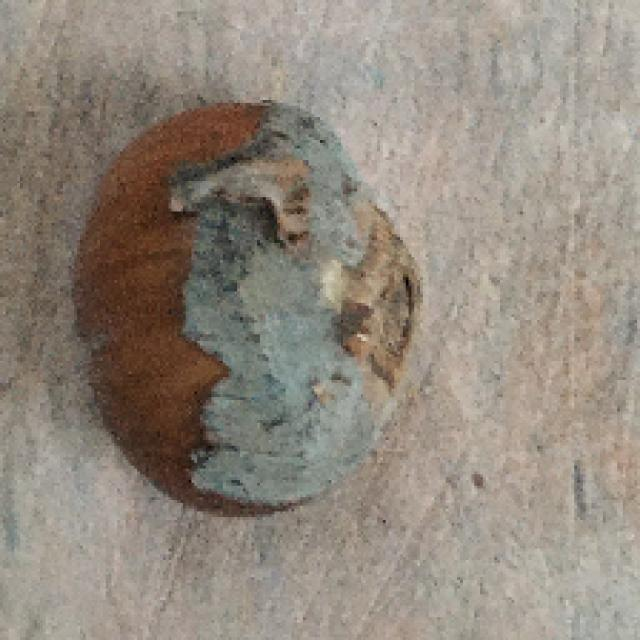damagedHazelnut: (66, 100, 419, 518)
